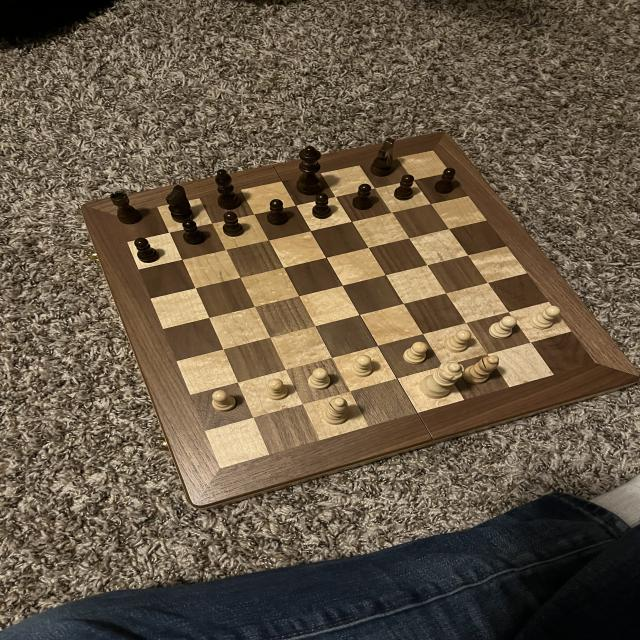bishop: (208, 167, 246, 213)
black-king: (160, 182, 197, 222), (367, 140, 401, 180)
black-knight: (132, 234, 163, 264), (430, 166, 461, 196), (218, 209, 248, 240), (391, 172, 420, 204), (350, 182, 378, 212), (265, 197, 293, 227), (179, 218, 209, 246), (308, 191, 334, 222)
black-queen: (109, 188, 143, 228)
black-rook: (460, 356, 506, 386), (319, 394, 352, 429)
white-bishop: (292, 144, 329, 197)
white-knight: (527, 304, 563, 334), (442, 328, 476, 356), (400, 340, 433, 367), (487, 314, 521, 340), (346, 352, 377, 380), (305, 366, 335, 393), (262, 378, 293, 404), (209, 387, 241, 412)
white-pawn: (417, 358, 467, 402)
